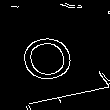O_N: (8, 22, 73, 82)
